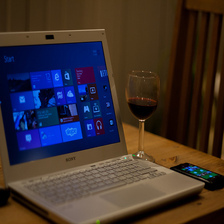laptop: (1, 26, 218, 222)
